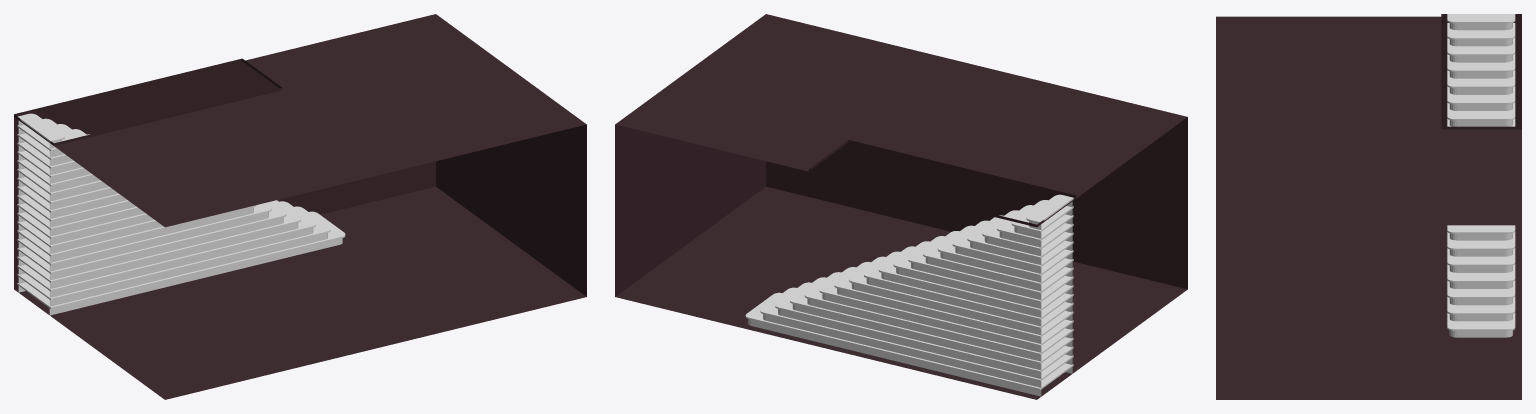
Rendered from Basement.fbx.
3 views of the same model, side by side, from view 1: azimuth 30°, elevation 25°; view 2: azimuth 150°, elevation 25°; view 3: azimuth 270°, elevation 25° (orthographic).
Visible parts, largest first — view 1: Basement, BasementRoof; view 2: Basement, BasementRoof; view 3: Basement, BasementRoof.
Part boxes in pixels (x1,y1,x2,y2): Basement: (14,61,586,399); BasementRoof: (14,14,586,227); Basement: (615,117,1187,399); BasementRoof: (615,14,1187,227); Basement: (1216,14,1521,399); BasementRoof: (1216,14,1521,225).
Size of the model in its own units: 856 by 340 by 531.
